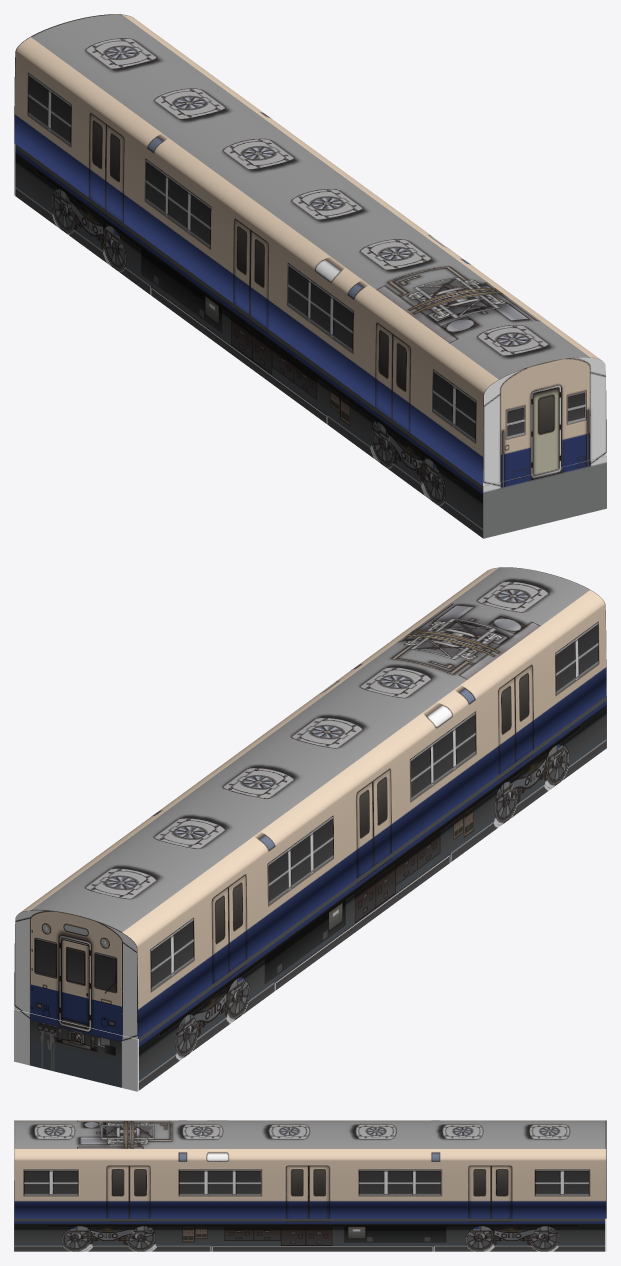
Rendered from car2.glb.
3 renders of one model, top to bottom at view 1: azimuth 30°, elevation 25°; view 2: azimuth 150°, elevation 25°; view 3: azimuth 270°, elevation 25°, orthographic. The views are drawn at different scales.
Parts seen in each view (by area): view 1: hansin-5001-car2; view 2: hansin-5001-car2; view 3: hansin-5001-car2.
Boxes of the visible parts, bbox=[...] form: hansin-5001-car2: bbox=[14, 14, 606, 538]; hansin-5001-car2: bbox=[14, 567, 606, 1091]; hansin-5001-car2: bbox=[14, 1120, 606, 1251].
Bounding box in the file's own units: 2.8 × 3.48 × 18.43.
Materials: 9 (8 with a texture image).
